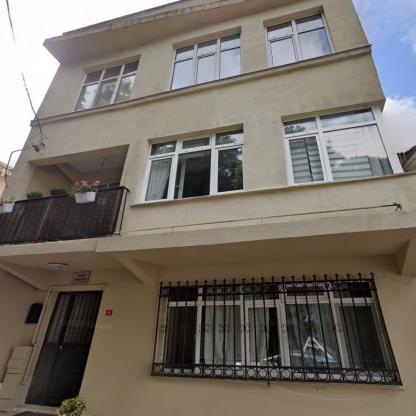door: (27, 292, 101, 406)
window: (164, 281, 389, 371), (283, 107, 394, 185), (144, 129, 243, 202), (169, 32, 241, 90), (265, 12, 333, 67), (74, 60, 140, 112)
